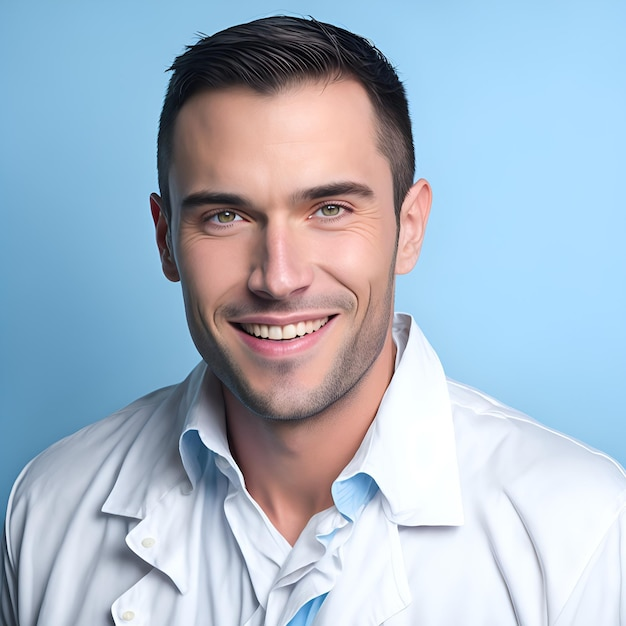young: (161, 27, 430, 421)
